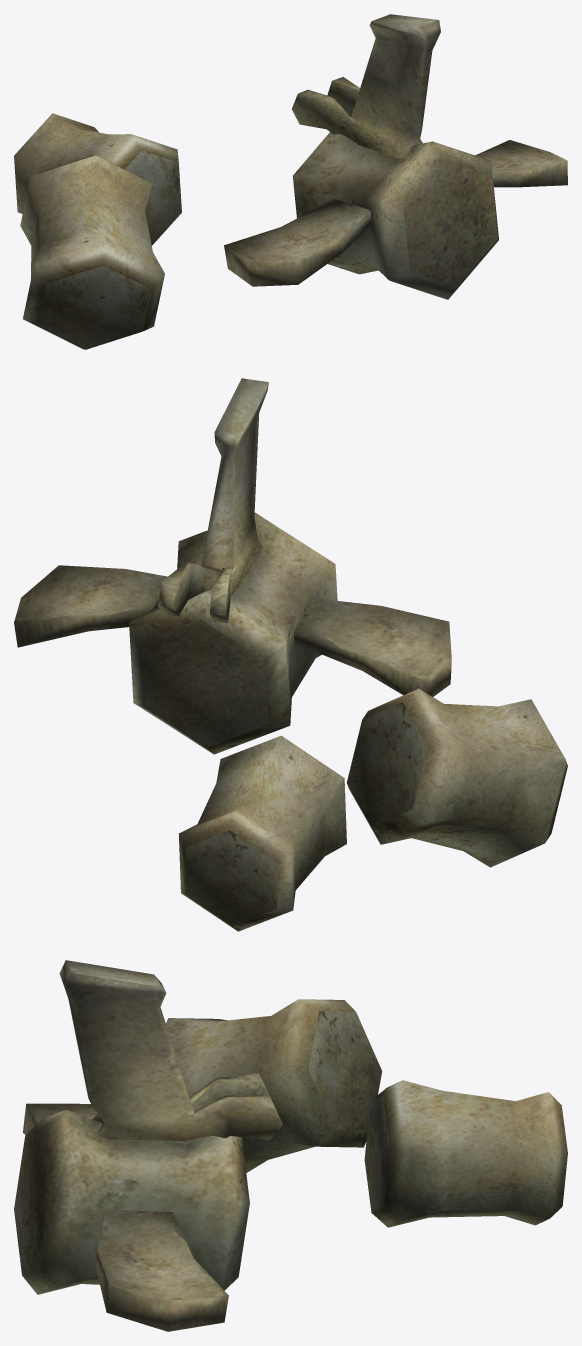
File: bone_whale_neck00.fbx
3 views of the same model, one above another, from view 1: azimuth 30°, elevation 25°; view 2: azimuth 150°, elevation 25°; view 3: azimuth 270°, elevation 25° (orthographic). The views are drawn at different scales.
Visible parts, largest first — view 1: bone_whale_neck00; view 2: bone_whale_neck00; view 3: bone_whale_neck00.
Boxes of the visible parts, x1,y1,x2,y2 form: bone_whale_neck00: [14, 14, 567, 349]; bone_whale_neck00: [14, 378, 567, 931]; bone_whale_neck00: [14, 960, 567, 1331].
Size of the model in its own units: 7.72 by 4.59 by 6.15.
